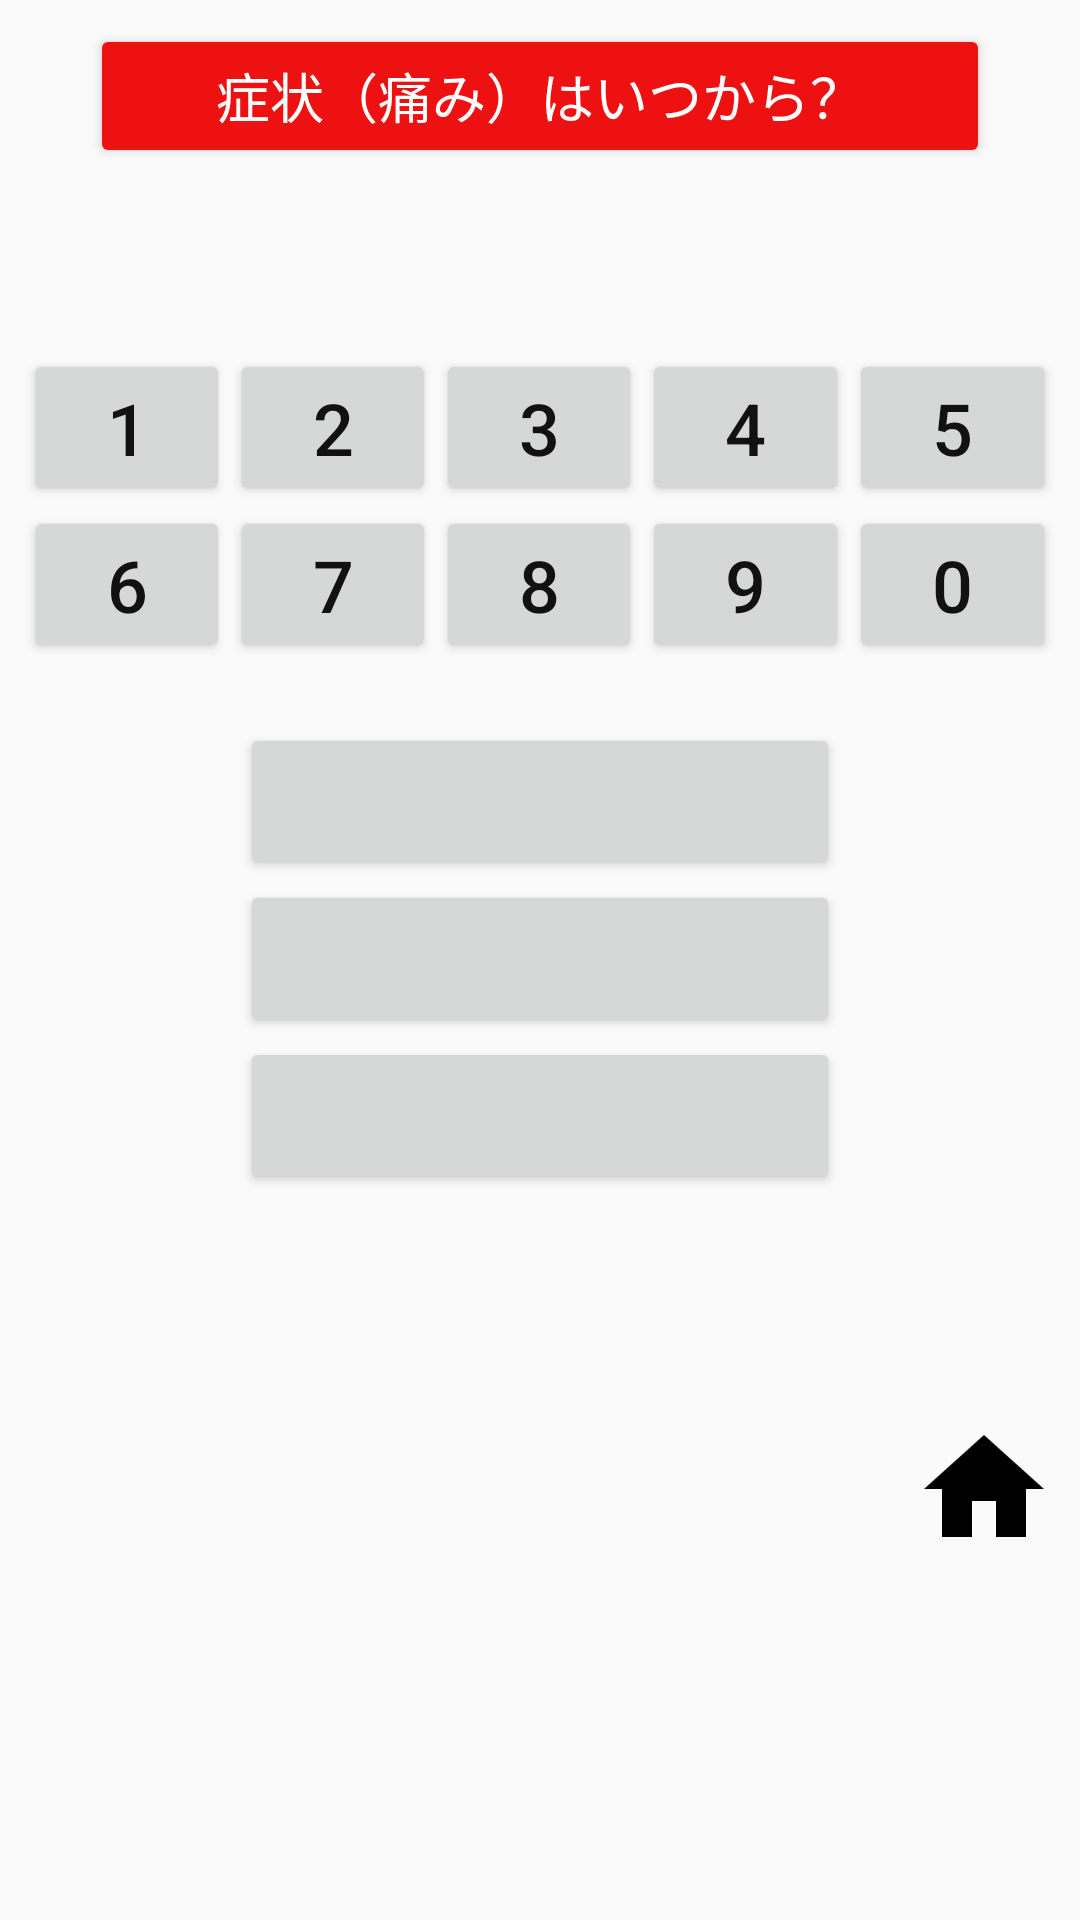

Where to tap for icons on this 1080×1920 app screen, as point (x, y):
home: point (984, 1486)
